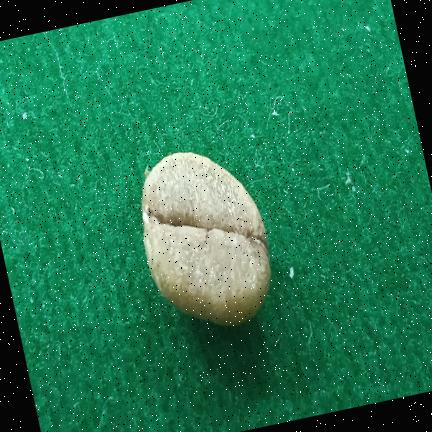cut: (142, 152, 270, 325)
